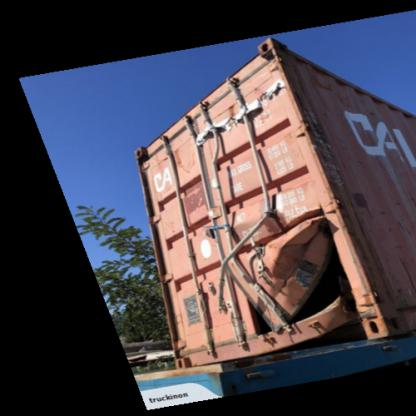Damage: (204, 83, 356, 352)
